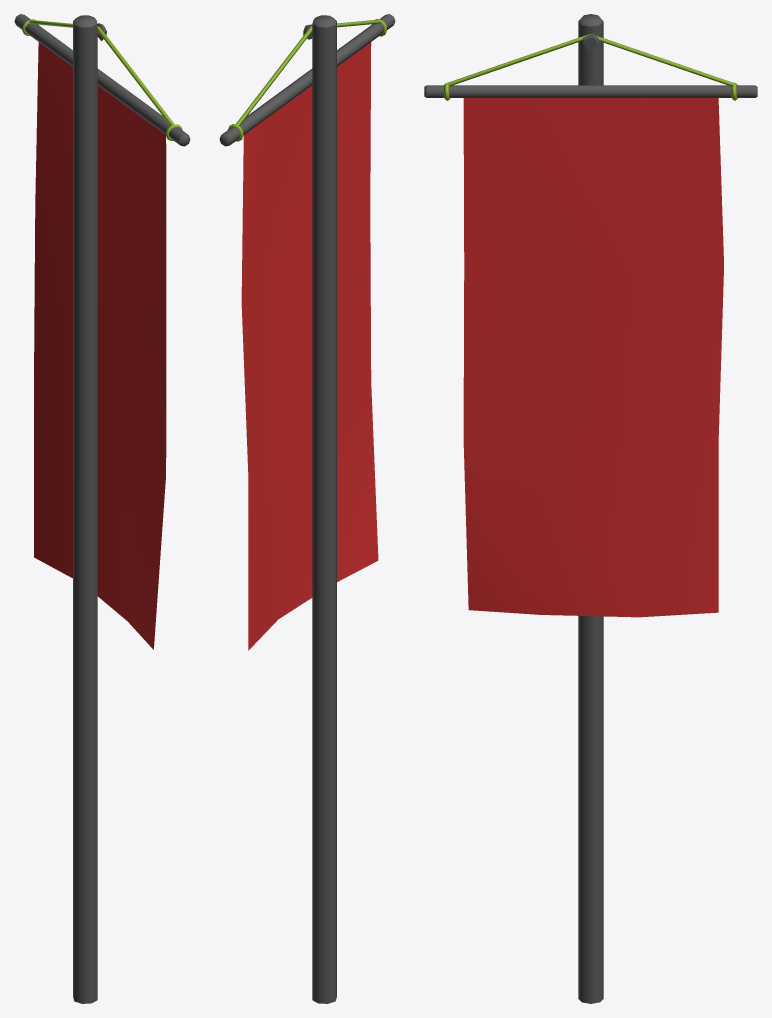
Rendered from mw_banner_01.FBX.
3 renders of one model, left to right at view 1: azimuth 30°, elevation 25°; view 2: azimuth 150°, elevation 25°; view 3: azimuth 270°, elevation 25°, orthographic.
Parts seen in each view (by area): view 1: mw_banner_01; view 2: mw_banner_01; view 3: mw_banner_01.
Boxes of the visible parts, <box> form: mw_banner_01: <box>14,14,190,1003</box>; mw_banner_01: <box>219,14,395,1003</box>; mw_banner_01: <box>424,14,757,1003</box>.
Size of the model in its own units: 20.76 by 537 by 166.
